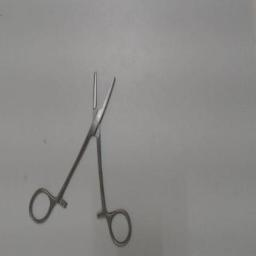Mayo Needle Holder: (25, 56, 137, 252)
